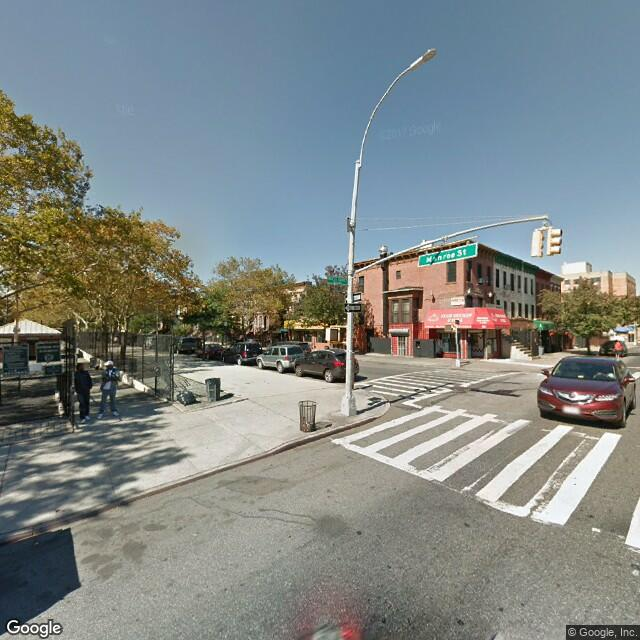litter: (174, 390, 199, 405)
